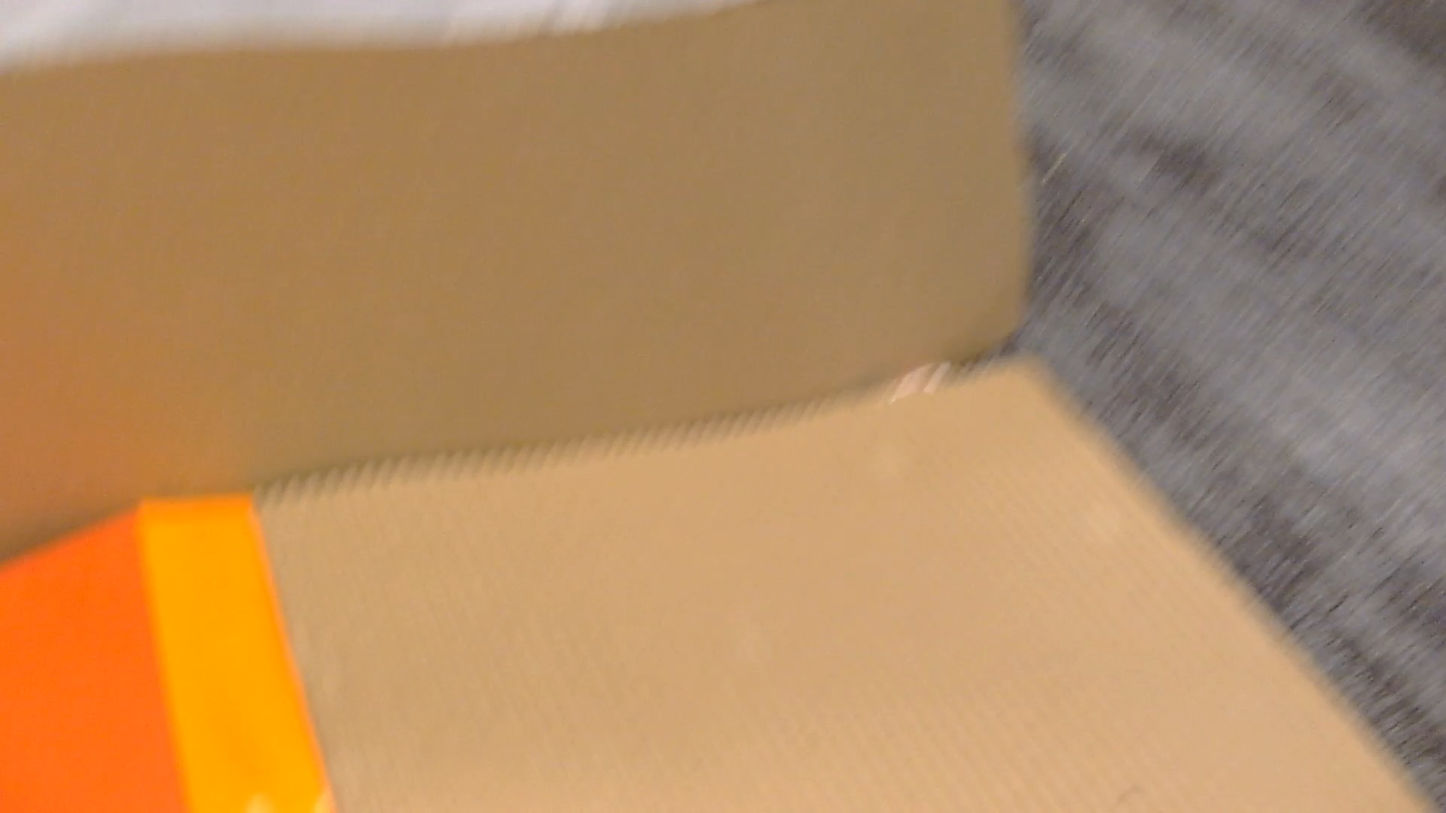Ramp: (0, 0, 1425, 812)
